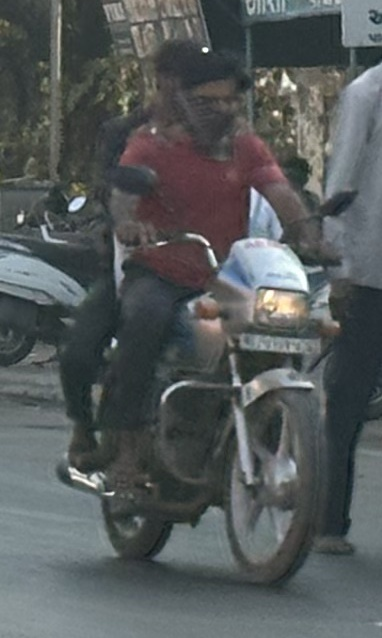BikeWithRider: (42, 30, 359, 595)
NoHelmet: (163, 45, 260, 148), (138, 32, 217, 116)
